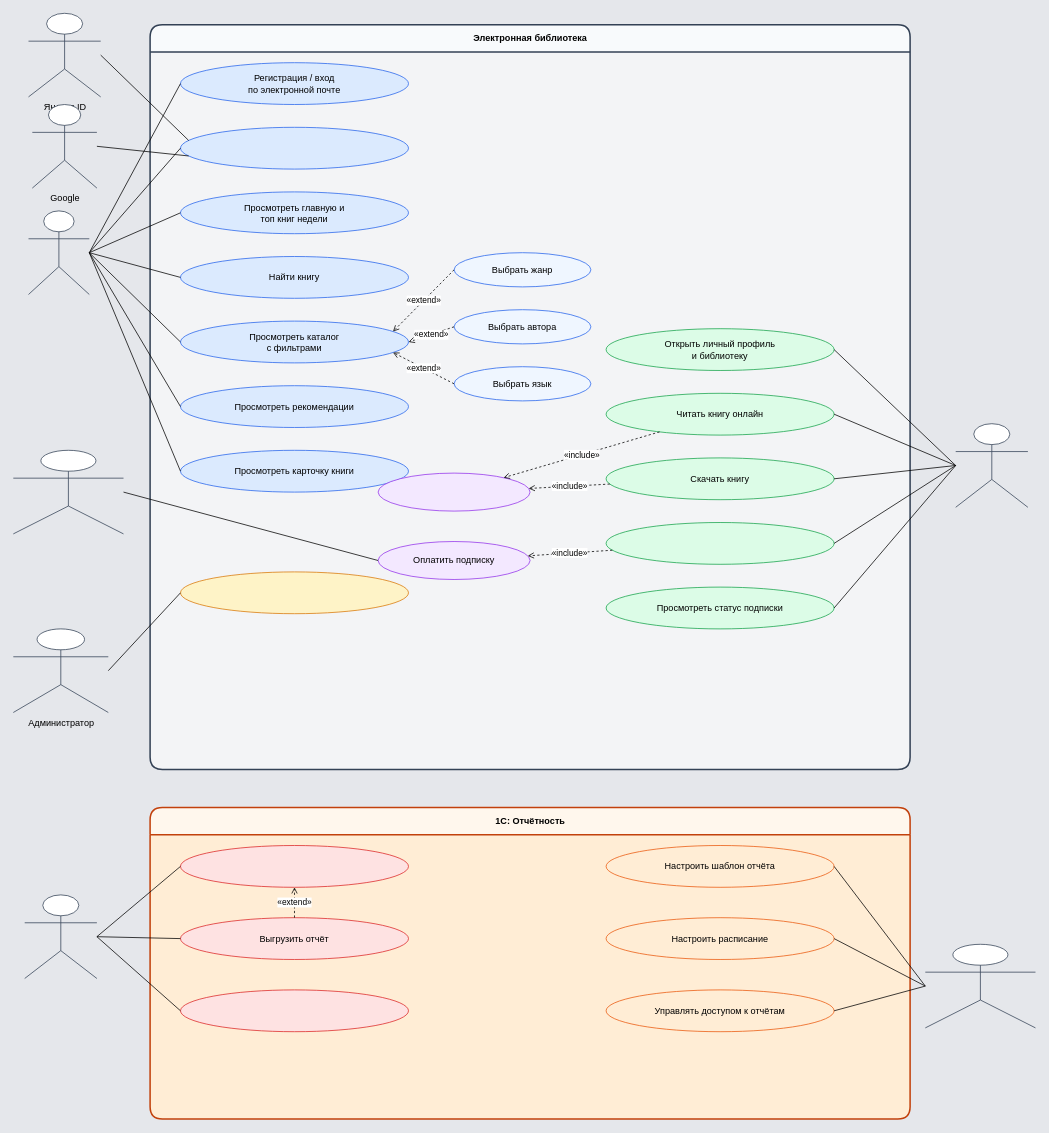
Some shapes in this 1049 by 1133 pixel diagram are drawn without their labels. Here are the shapes that lost their labels. From the top down, the centre of each, then its label:
(x=294, y=148): Регистрация / вход через внешнего провайдера
(x=58, y=252): Гость
(x=991, y=465): Читатель
(x=68, y=492): Платёжная система
(x=453, y=491): Проверить доступ к книге
(x=719, y=543): Купить подписку
(x=294, y=592): Добавить книгу в библиотеку
(x=294, y=866): Сформировать отчёт
(x=60, y=936): Аналитик
(x=980, y=986): Администратор 1С
(x=294, y=1010): Просмотреть архив отчётов
